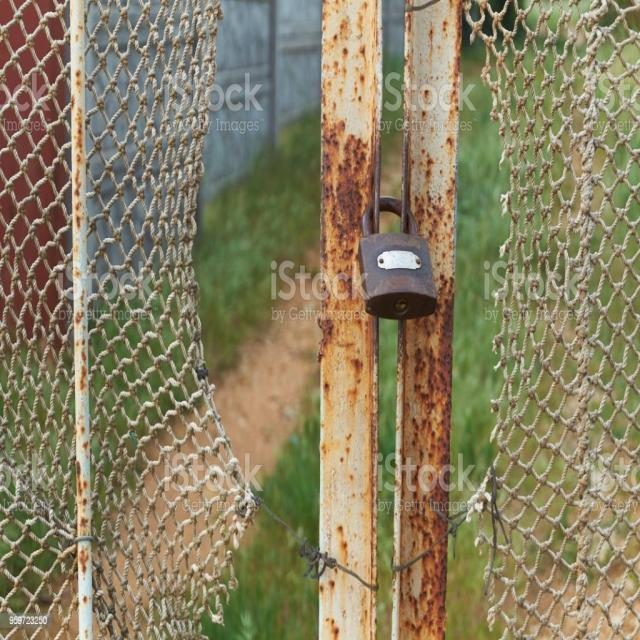fence line: (206, 5, 324, 621), (449, 34, 503, 621)
